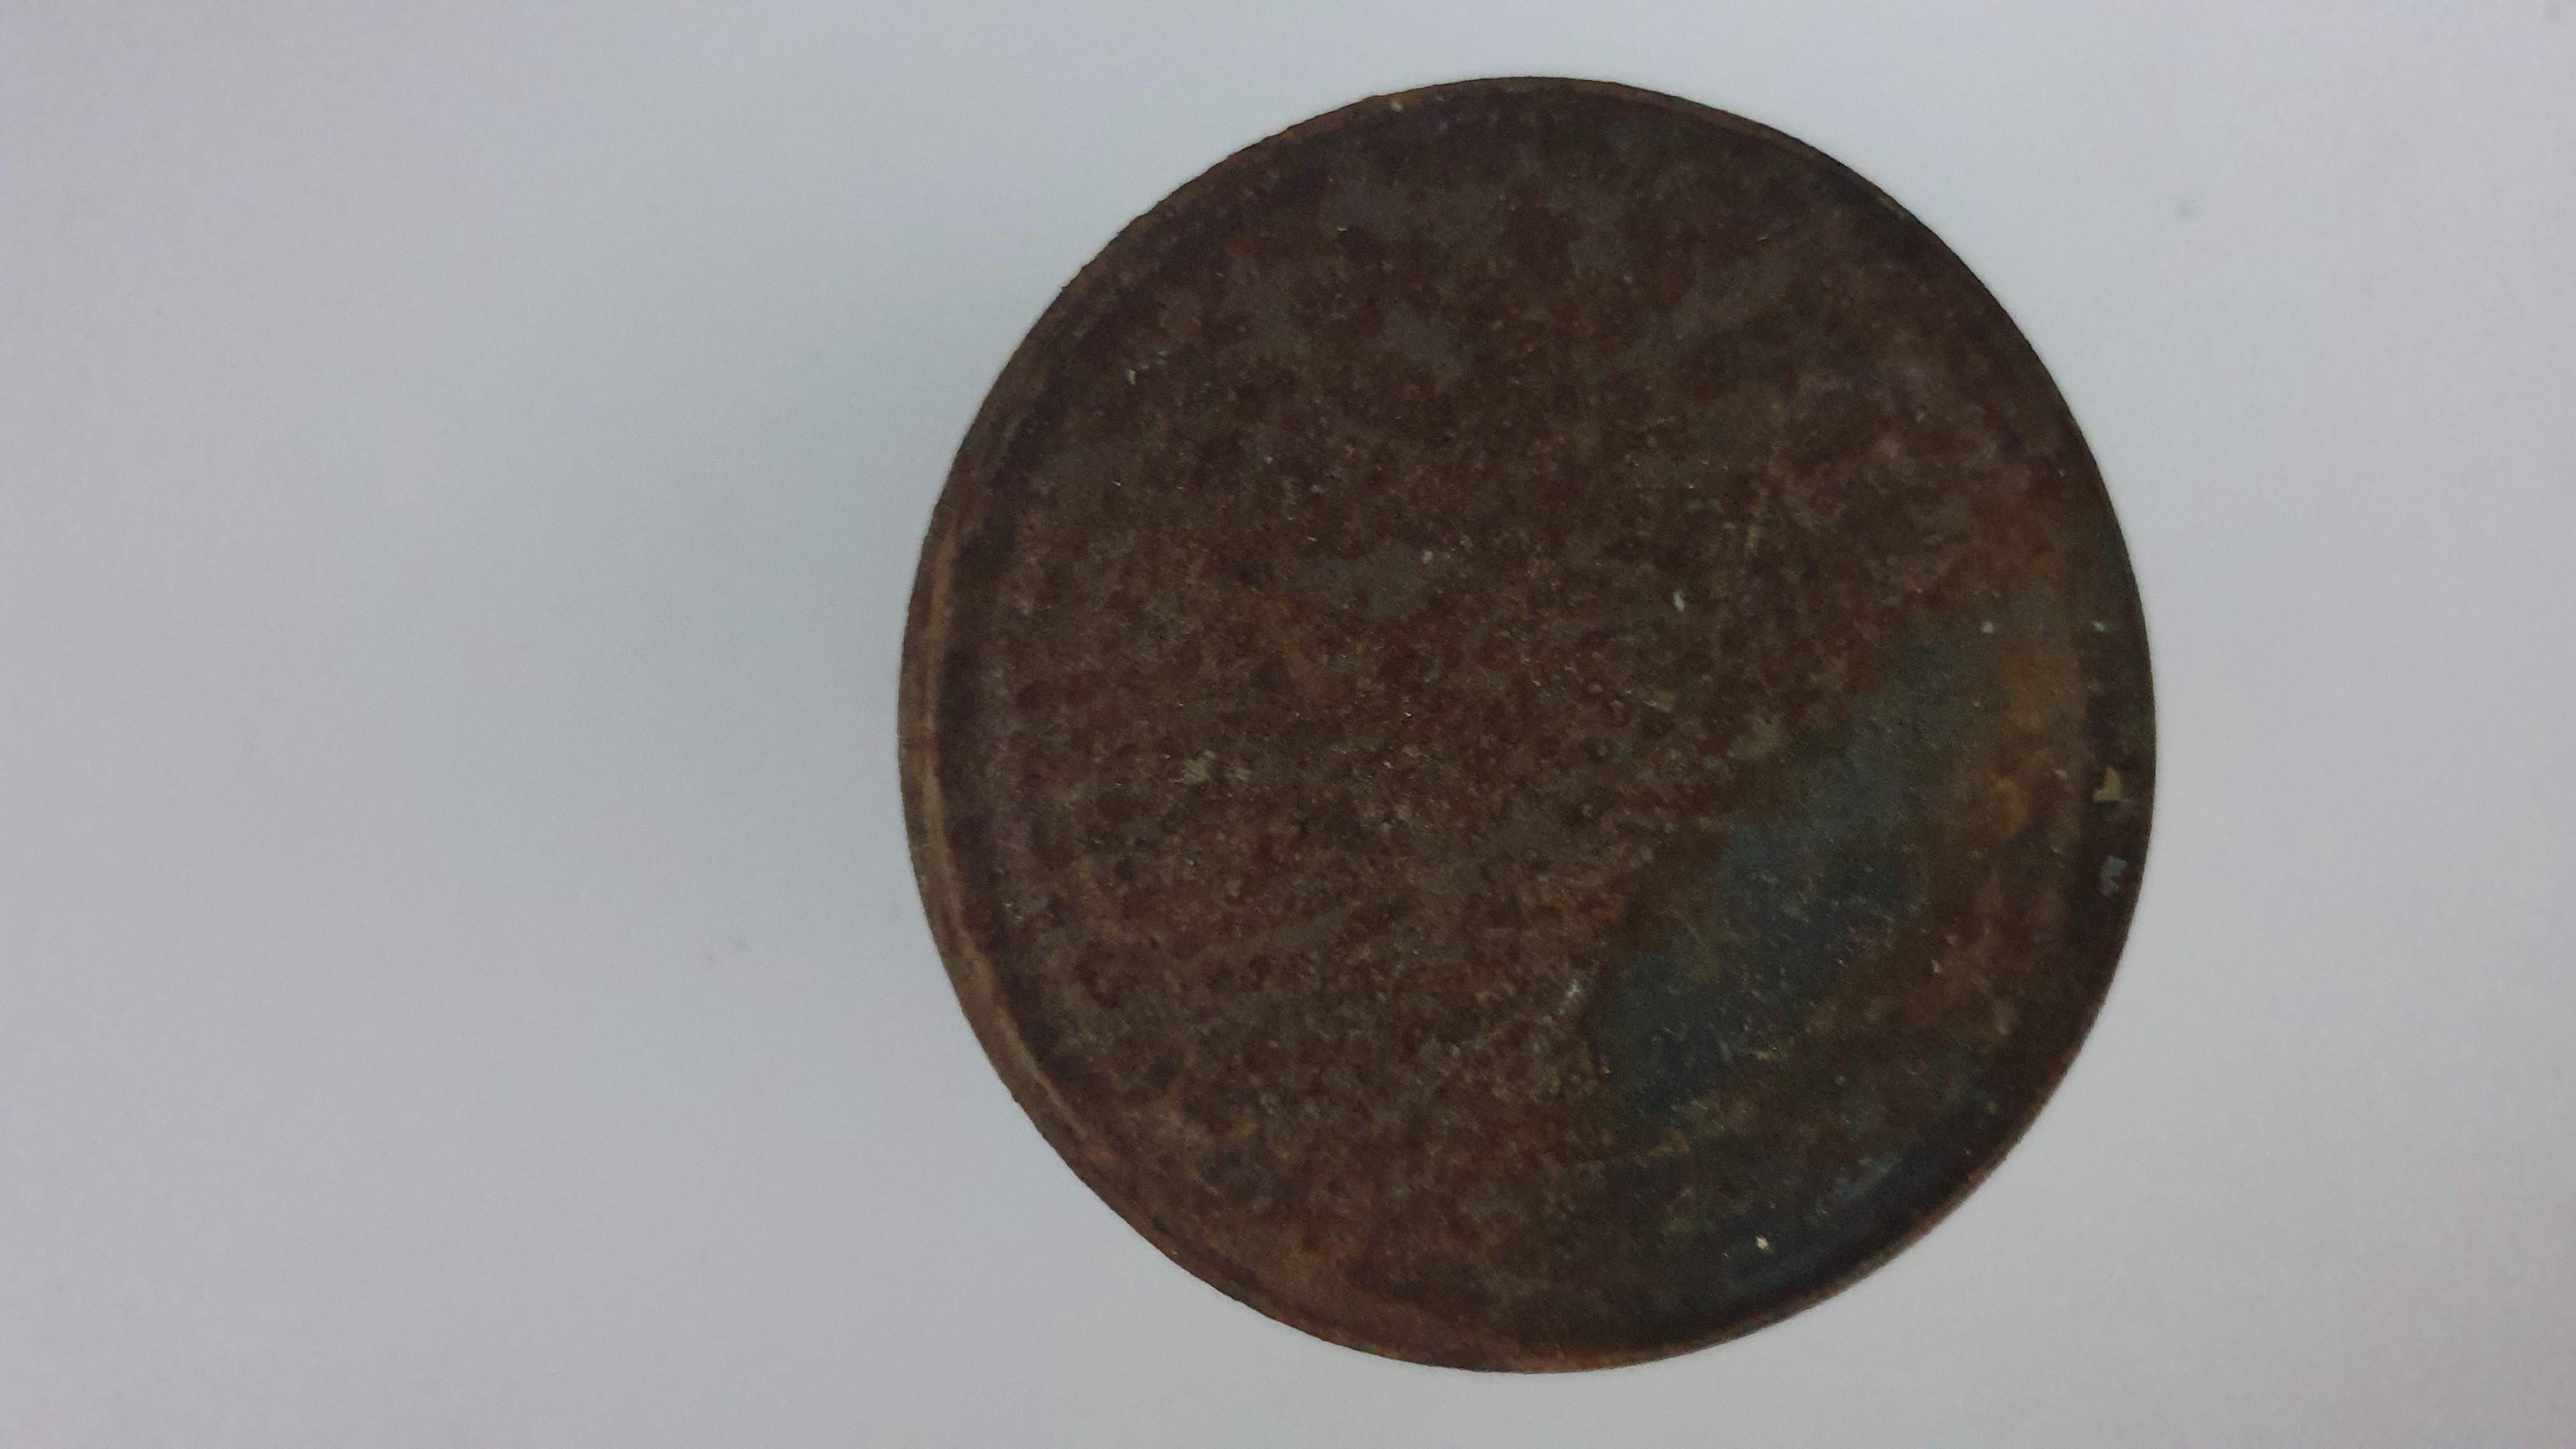metal: (883, 48, 2180, 1378)
